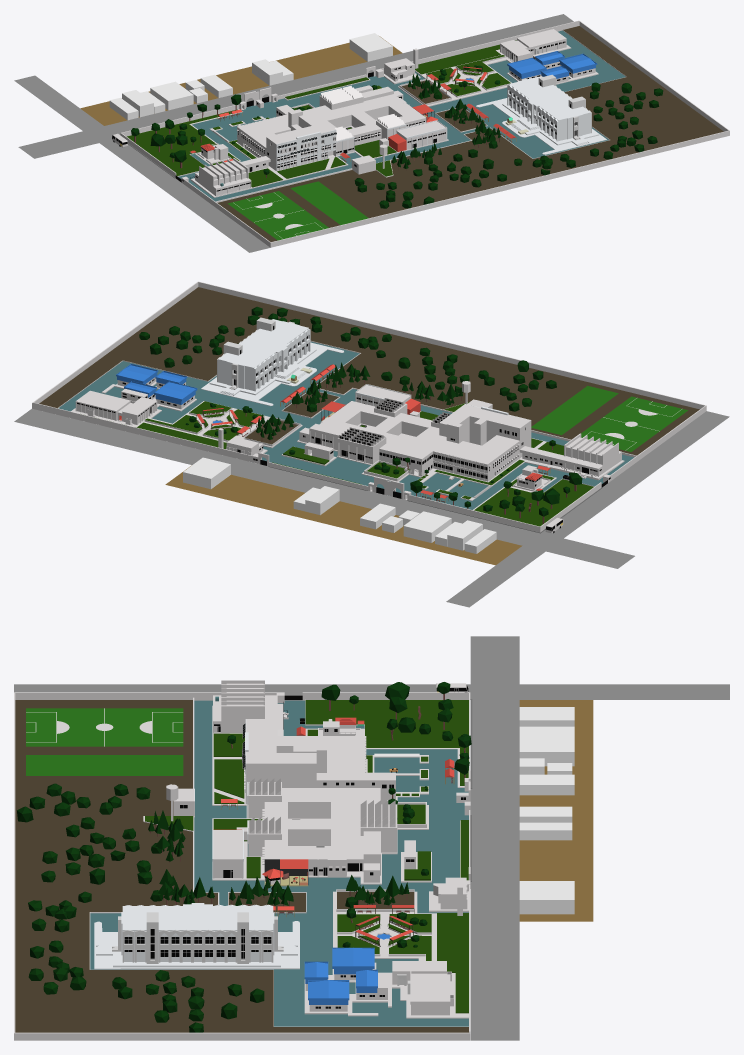
The model's file is baking5.glb.
The picture shows the model from 3 angles, top to bottom: view 1: azimuth 30°, elevation 25°; view 2: azimuth 150°, elevation 25°; view 3: azimuth 270°, elevation 25°; orthographic projection. The views are drawn at different scales.
Parts seen in each view (by area): view 1: Cube.504, Cube.028, Cube.145, Cube.014, Plane.229, Cylinder.012, ALGO, Cube.285, Plane.056; view 2: Cube.504, Cube.028, Cube.145, Cube.014, Plane.229, Cylinder.012, ALGO, Plane.056, Cube.285; view 3: Cube.504, Cube.028, Cube.014, Plane.229, Cube.145, Cylinder.012, ALGO, Cube.285, Plane.056.
Boxes of the visible parts, x1,y1,x2,y2 form: Cube.504: [14, 14, 625, 252]; Cube.028: [217, 26, 723, 241]; Cube.145: [120, 20, 729, 247]; Cube.014: [190, 85, 448, 197]; Plane.229: [127, 40, 516, 240]; Cylinder.012: [131, 65, 663, 208]; ALGO: [476, 74, 606, 154]; Cube.285: [112, 66, 516, 186]; Plane.056: [182, 41, 592, 191]; Cube.504: [14, 341, 729, 607]; Cube.028: [39, 287, 699, 455]; Cube.145: [32, 281, 706, 533]; Cube.014: [281, 384, 624, 500]; Plane.229: [136, 385, 687, 526]; Cylinder.012: [139, 306, 582, 523]; ALGO: [201, 317, 343, 405]; Plane.056: [77, 326, 610, 490]; Cube.285: [196, 364, 607, 533]; Cube.504: [14, 636, 729, 1040]; Cube.028: [15, 700, 468, 1032]; Cube.014: [173, 680, 431, 884]; Plane.229: [26, 700, 468, 1013]; Cube.145: [14, 692, 472, 1040]; Cylinder.012: [17, 682, 471, 1032]; ALGO: [94, 903, 299, 969]; Cube.285: [166, 683, 468, 946]; Plane.056: [124, 724, 465, 1008].
Bounding box in the file's own units: 6.31 × 0.3662 × 4.72.
